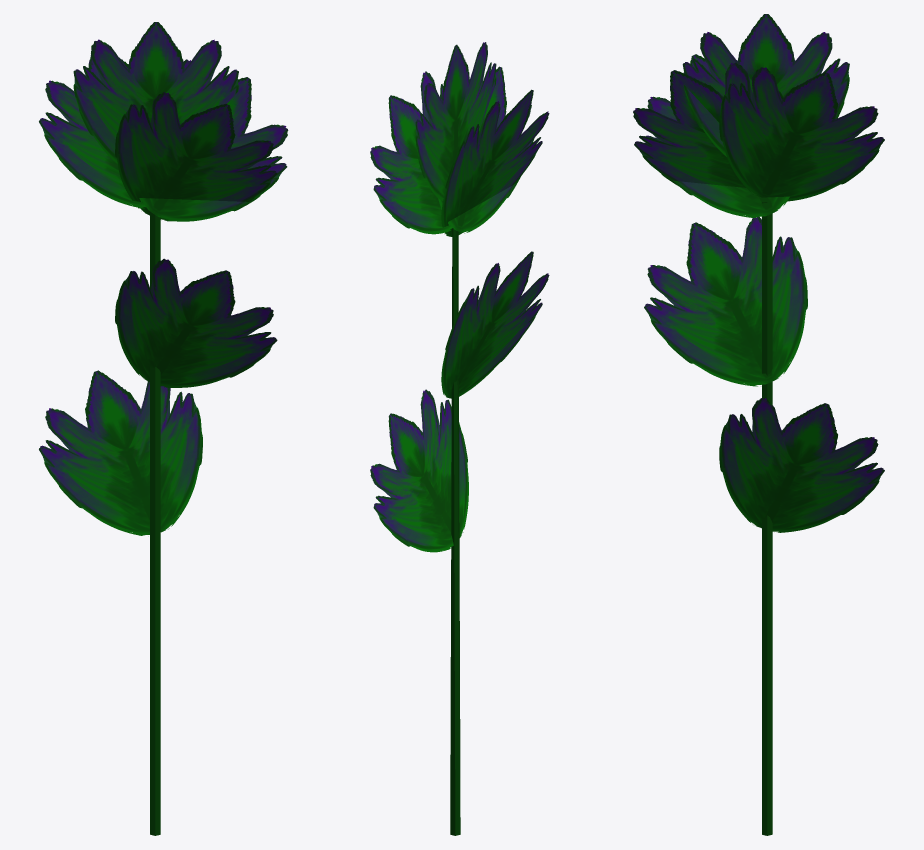
The model's file is plantita.fbx.
The picture shows the model from 3 angles, left to right: view 1: azimuth 90°, elevation 25°; view 2: azimuth 150°, elevation 25°; view 3: azimuth 270°, elevation 25°; orthographic projection. The views are drawn at different scales.
Parts seen in each view (by area): view 1: pCube10, pCube9, pCube6, pCube4, pCylinder5, pCube7, pCube8; view 2: pCube10, pCube9, pCube6, pCube4, pCube7, pCylinder5, pCube8; view 3: pCube9, pCube7, pCube10, pCube4, pCube8, pCylinder5, pCube6.
Part boxes in pixels (box(x1,y1,x2,y2)): pCube10: box(39, 370, 202, 535); pCube9: box(115, 258, 277, 387); pCube6: box(115, 92, 277, 221); pCube4: box(73, 22, 238, 163); pCylinder5: box(150, 211, 160, 835); pCube7: box(39, 56, 145, 208); pCube8: box(139, 59, 288, 221); pCube10: box(370, 389, 468, 552); pCube9: box(441, 251, 549, 398); pCube6: box(441, 89, 549, 236); pCube4: box(415, 42, 496, 200); pCube7: box(370, 71, 452, 234); pCylinder5: box(450, 228, 460, 835); pCube8: box(438, 66, 534, 233); pCube9: box(644, 216, 807, 386); pCube7: box(719, 67, 884, 201); pCube10: box(719, 398, 884, 532); pCube4: box(682, 14, 849, 156); pCube8: box(633, 62, 783, 187); pCylinder5: box(762, 202, 772, 835); pCube6: box(645, 54, 789, 218).
Size of the model in its own units: 0.5348 by 5.08 by 1.74.
